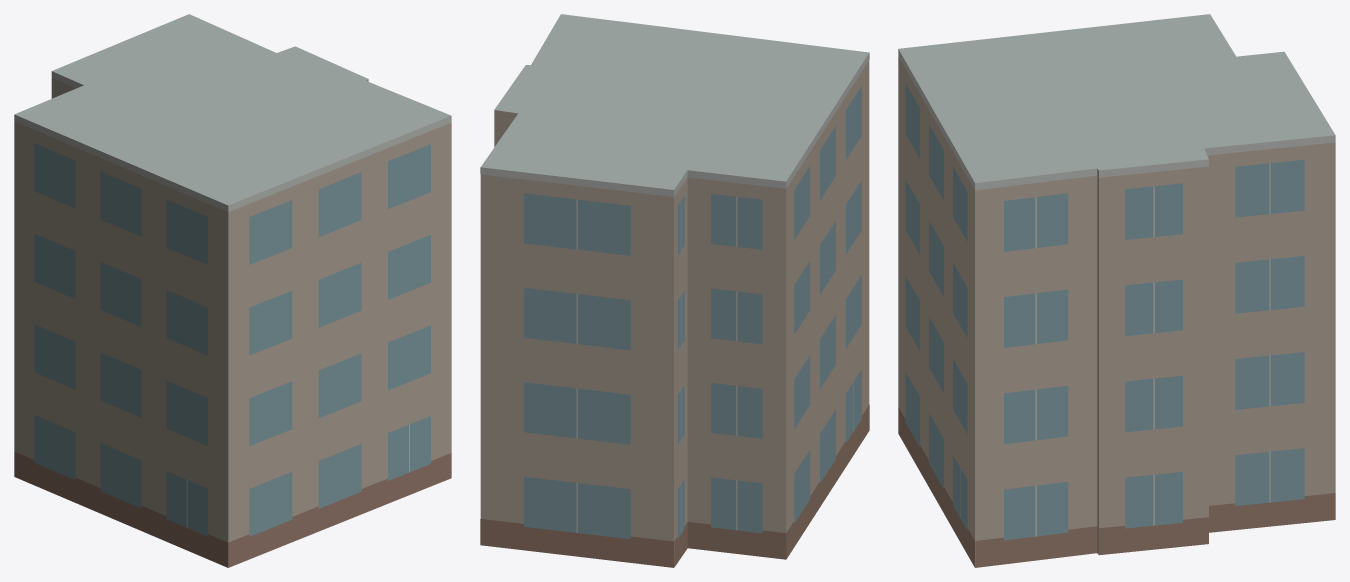
File: survey-upis-32493677.glb
3 renders of one model, left to right at view 1: azimuth 30°, elevation 25°; view 2: azimuth 150°, elevation 25°; view 3: azimuth 270°, elevation 25°, orthographic. The views are drawn at different scales.
Visible parts, largest first — view 1: survey-upis-32493677.tmp; view 2: survey-upis-32493677.tmp; view 3: survey-upis-32493677.tmp.
Boxes of the visible parts, x1,y1,x2,y2 form: survey-upis-32493677.tmp: [14, 14, 451, 567]; survey-upis-32493677.tmp: [480, 14, 869, 567]; survey-upis-32493677.tmp: [898, 14, 1335, 567].
Bounding box in the file's own units: 12.28 × 13 × 13.41.
